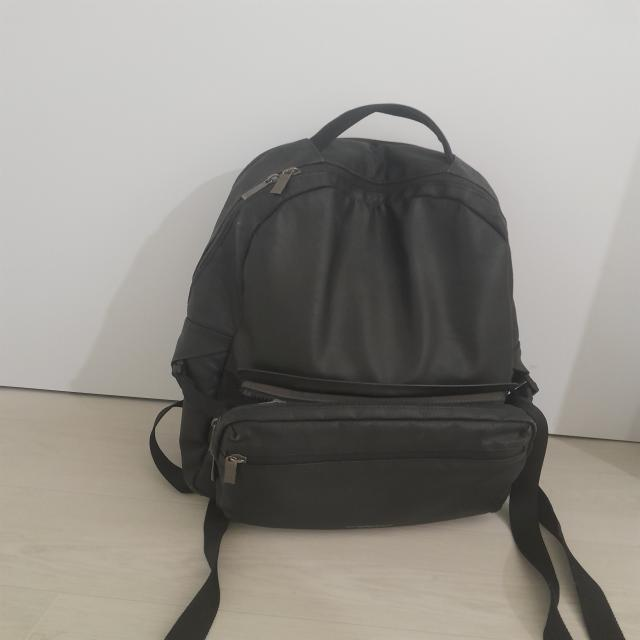backpack: (150, 104, 627, 639)
